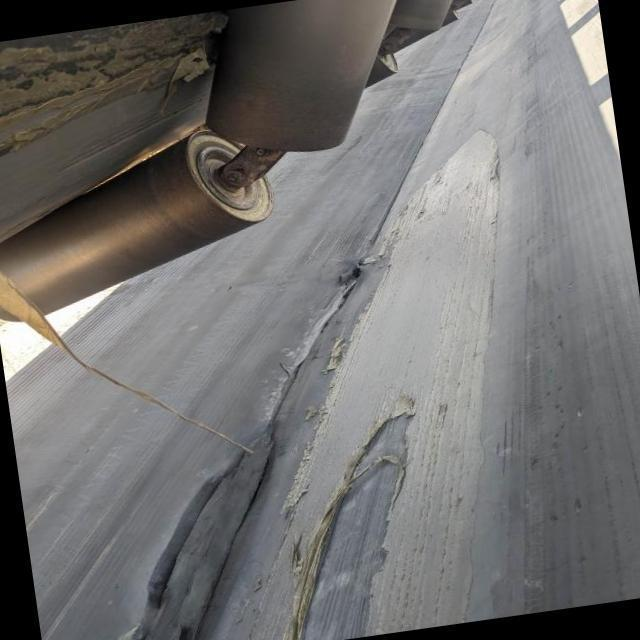Tear: (121, 247, 398, 640), (278, 408, 419, 637)
